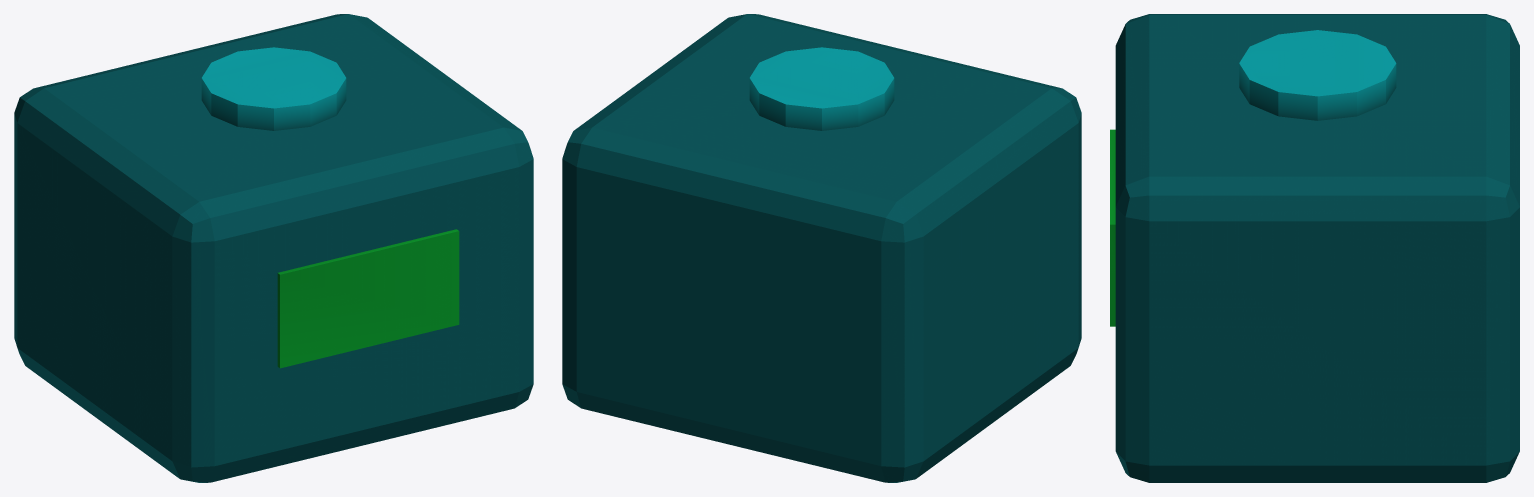
File: part_ballast.glb
The picture shows the model from 3 angles, left to right: view 1: azimuth 30°, elevation 25°; view 2: azimuth 150°, elevation 25°; view 3: azimuth 270°, elevation 25°; orthographic projection. The views are drawn at different scales.
Parts seen in each view (by area): view 1: part_ballast; view 2: part_ballast; view 3: part_ballast.
Part boxes in pixels (box(x1,y1,x2,y2)): part_ballast: box(14, 14, 533, 482); part_ballast: box(562, 14, 1081, 482); part_ballast: box(1110, 14, 1519, 482).
Bounding box in the file's own units: 0.2 × 0.166 × 0.1825.
Materials: 1 (1 with a texture image).
